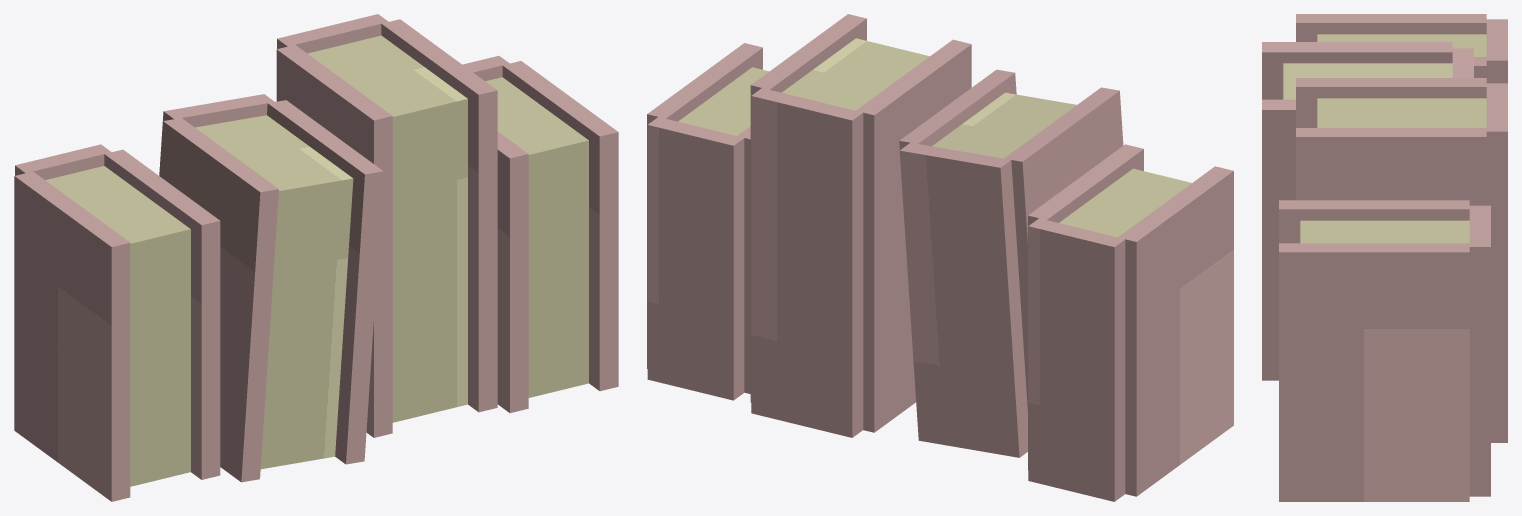
File: IAShopBook.gltf
The picture shows the model from 3 angles, left to right: view 1: azimuth 30°, elevation 25°; view 2: azimuth 150°, elevation 25°; view 3: azimuth 270°, elevation 25°; orthographic projection. The views are drawn at different scales.
Parts seen in each view (by area): view 1: f92c5e81-80fc-e7dc-0ccd-10bc6eba6a50, d73ef653-3cb9-9c8a-6010-858d45e414fd, 62e68361-f211-3749-0346-096094a2a5cd, f83a75ac-70e9-2c1a-94f4-f8605690f7ca, df710b6c-75a5-a6d8-15df-850d56eb82fb, 50d0fcce-db21-89e4-59d0-fcc87700f7d0, 7eab9226-500a-0893-7267-5a652031bc2a, 7e8c037a-ebc4-7d26-f0b0-e5397a8979c1, cf875184-9abe-a59a-52d8-ce32eb640506, 16575c80-37a7-09f0-2287-536239d9e9ed, adc6caa5-e89c-0e32-c29d-72390de63f03, 891dcdc1-093b-329f-79c0-28bb0d00ac73 (+4 smaller); view 2: e30aa67d-cdaa-5bc5-83e3-0e523c36bdad, ec626ec6-26c9-7c2b-b08e-81605832a4d4, f92c5e81-80fc-e7dc-0ccd-10bc6eba6a50, 03cdc599-87c9-3607-d616-d578289ad2ba, 726c97fc-1bad-0a3a-9833-c0ef0d2c40be, 7e8c037a-ebc4-7d26-f0b0-e5397a8979c1, f83a75ac-70e9-2c1a-94f4-f8605690f7ca, d73ef653-3cb9-9c8a-6010-858d45e414fd, 62e68361-f211-3749-0346-096094a2a5cd, df710b6c-75a5-a6d8-15df-850d56eb82fb, 7eab9226-500a-0893-7267-5a652031bc2a, 16575c80-37a7-09f0-2287-536239d9e9ed (+4 smaller); view 3: 16575c80-37a7-09f0-2287-536239d9e9ed, 7eab9226-500a-0893-7267-5a652031bc2a, e30aa67d-cdaa-5bc5-83e3-0e523c36bdad, cf875184-9abe-a59a-52d8-ce32eb640506, 726c97fc-1bad-0a3a-9833-c0ef0d2c40be, d73ef653-3cb9-9c8a-6010-858d45e414fd, f83a75ac-70e9-2c1a-94f4-f8605690f7ca, 7e8c037a-ebc4-7d26-f0b0-e5397a8979c1, 891dcdc1-093b-329f-79c0-28bb0d00ac73, f92c5e81-80fc-e7dc-0ccd-10bc6eba6a50, 50d0fcce-db21-89e4-59d0-fcc87700f7d0, 62e68361-f211-3749-0346-096094a2a5cd (+3 smaller).
Boxes of the visible parts, x1,y1,x2,y2 form: f92c5e81-80fc-e7dc-0ccd-10bc6eba6a50: (14,171,130,501); d73ef653-3cb9-9c8a-6010-858d45e414fd: (307,35,467,422); 62e68361-f211-3749-0346-096094a2a5cd: (195,115,353,469); f83a75ac-70e9-2c1a-94f4-f8605690f7ca: (159,118,278,482); df710b6c-75a5-a6d8-15df-850d56eb82fb: (45,166,190,486); 50d0fcce-db21-89e4-59d0-fcc87700f7d0: (485,77,588,397); 7eab9226-500a-0893-7267-5a652031bc2a: (381,19,497,412); 7e8c037a-ebc4-7d26-f0b0-e5397a8979c1: (276,45,392,437); cf875184-9abe-a59a-52d8-ce32eb640506: (267,100,383,464); 16575c80-37a7-09f0-2287-536239d9e9ed: (502,61,618,391); adc6caa5-e89c-0e32-c29d-72390de63f03: (104,149,220,479); 891dcdc1-093b-329f-79c0-28bb0d00ac73: (497,131,528,412); e30aa67d-cdaa-5bc5-83e3-0e523c36bdad: (751,88,863,437); ec626ec6-26c9-7c2b-b08e-81605832a4d4: (899,142,1027,457); f92c5e81-80fc-e7dc-0ccd-10bc6eba6a50: (1118,166,1233,496); 03cdc599-87c9-3607-d616-d578289ad2ba: (1028,218,1125,501); 726c97fc-1bad-0a3a-9833-c0ef0d2c40be: (647,117,744,400); 7e8c037a-ebc4-7d26-f0b0-e5397a8979c1: (856,39,971,432); f83a75ac-70e9-2c1a-94f4-f8605690f7ca: (1004,87,1123,410); d73ef653-3cb9-9c8a-6010-858d45e414fd: (782,38,929,110); 62e68361-f211-3749-0346-096094a2a5cd: (932,92,1076,158); df710b6c-75a5-a6d8-15df-850d56eb82fb: (1059,168,1191,237); 7eab9226-500a-0893-7267-5a652031bc2a: (750,14,866,402); 16575c80-37a7-09f0-2287-536239d9e9ed: (647,43,762,368); 16575c80-37a7-09f0-2287-536239d9e9ed: (1279,243,1469,501); 7eab9226-500a-0893-7267-5a652031bc2a: (1296,128,1486,205); e30aa67d-cdaa-5bc5-83e3-0e523c36bdad: (1486,83,1507,442); cf875184-9abe-a59a-52d8-ce32eb640506: (1262,99,1295,380); 726c97fc-1bad-0a3a-9833-c0ef0d2c40be: (1469,205,1490,496); d73ef653-3cb9-9c8a-6010-858d45e414fd: (1317,98,1486,127); f83a75ac-70e9-2c1a-94f4-f8605690f7ca: (1262,42,1452,99); 7e8c037a-ebc4-7d26-f0b0-e5397a8979c1: (1296,78,1486,127); 891dcdc1-093b-329f-79c0-28bb0d00ac73: (1279,200,1469,243); f92c5e81-80fc-e7dc-0ccd-10bc6eba6a50: (1296,14,1486,41); 50d0fcce-db21-89e4-59d0-fcc87700f7d0: (1300,220,1469,243); 62e68361-f211-3749-0346-096094a2a5cd: (1283,63,1452,99).
Size of the model in its own units: 6.65 by 4.1 by 2.9.
2 materials, 2 textured.
